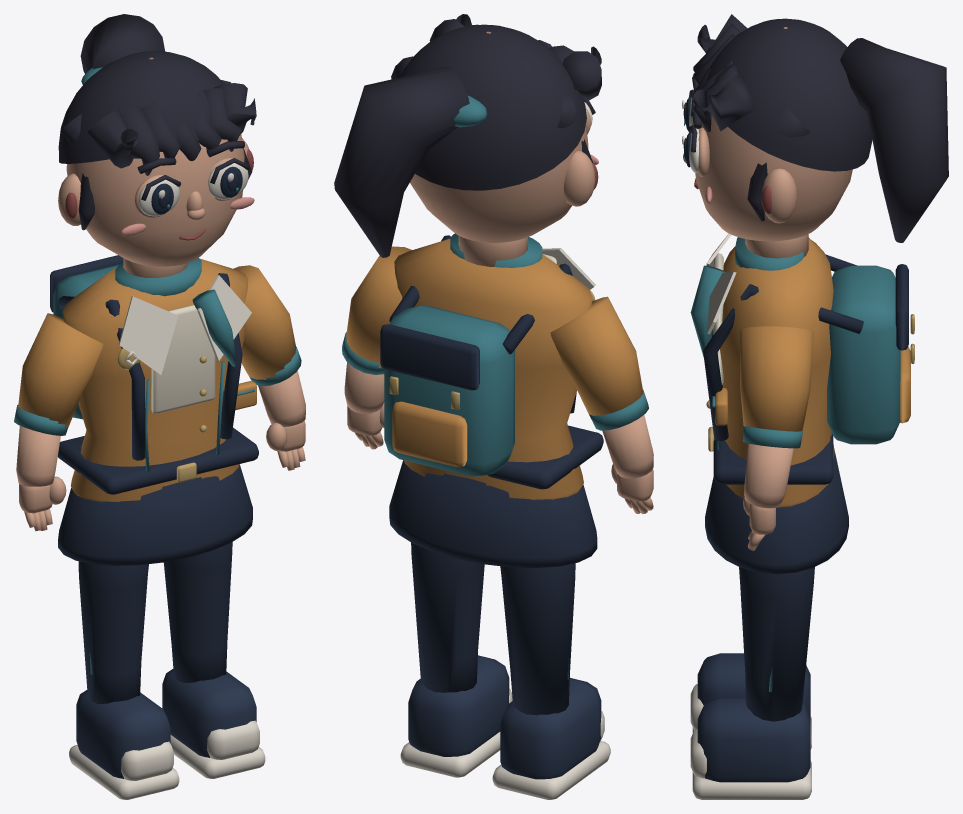
The model's file is blocky_character_d.glb.
3 renders of one model, left to right at view 1: azimuth 30°, elevation 25°; view 2: azimuth 150°, elevation 25°; view 3: azimuth 270°, elevation 25°, orthographic. The views are drawn at different scales.
Parts seen in each view (by area): view 1: figure.003; view 2: figure.003; view 3: figure.003.
Part boxes in pixels (x1,y1,x2,y2): figure.003: (14, 14, 305, 799); figure.003: (334, 14, 653, 799); figure.003: (682, 14, 948, 799).
Bounding box in the file's own units: 1.07 × 2.5 × 0.8199.
